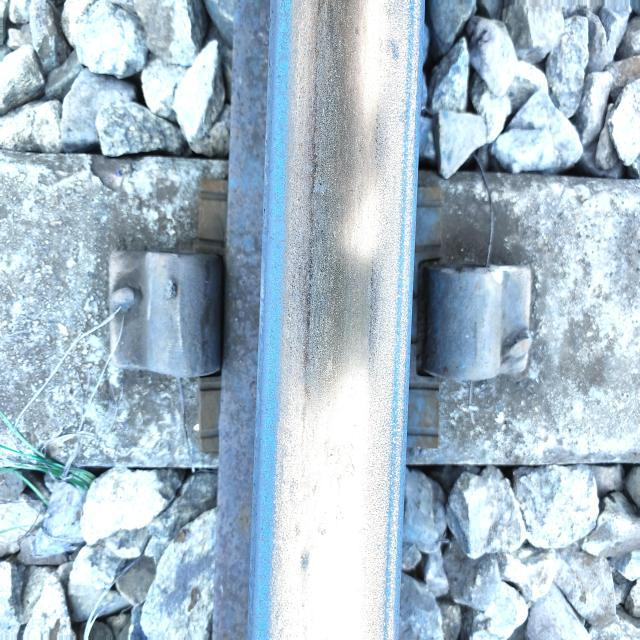Missing Fastener: (91, 227, 225, 420), (413, 245, 555, 414)
